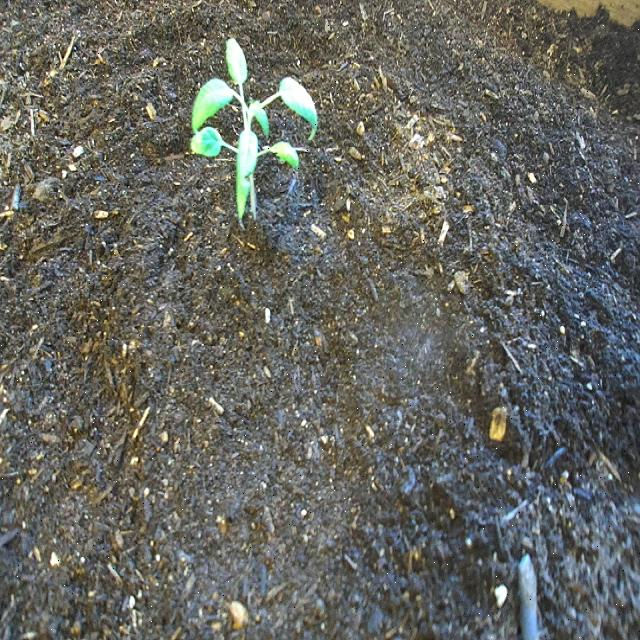Healthy: (176, 22, 326, 230)
